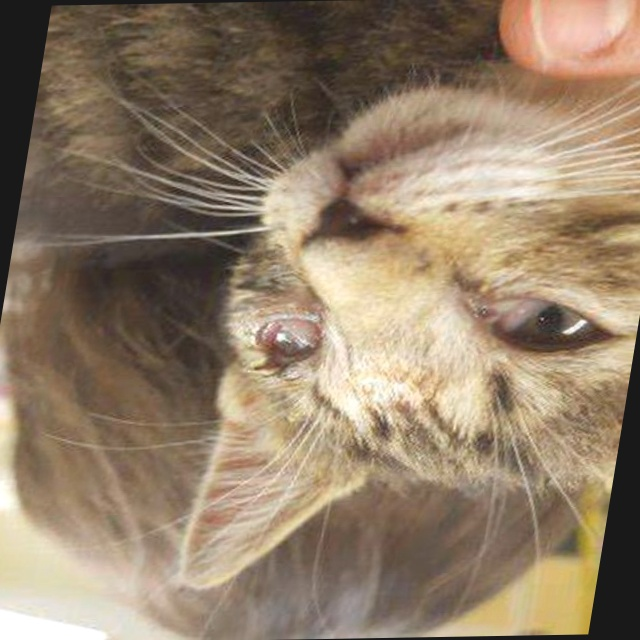eye_infection: (472, 288, 621, 356), (241, 303, 334, 372)
